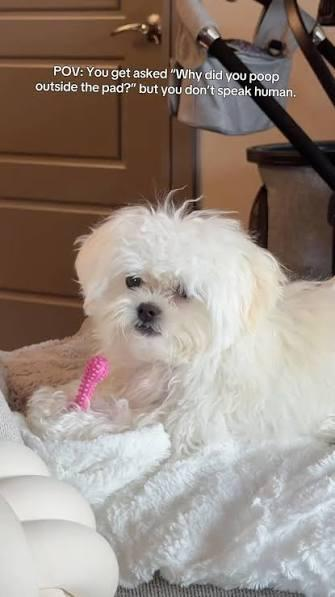adult_dog: (25, 199, 335, 463)
